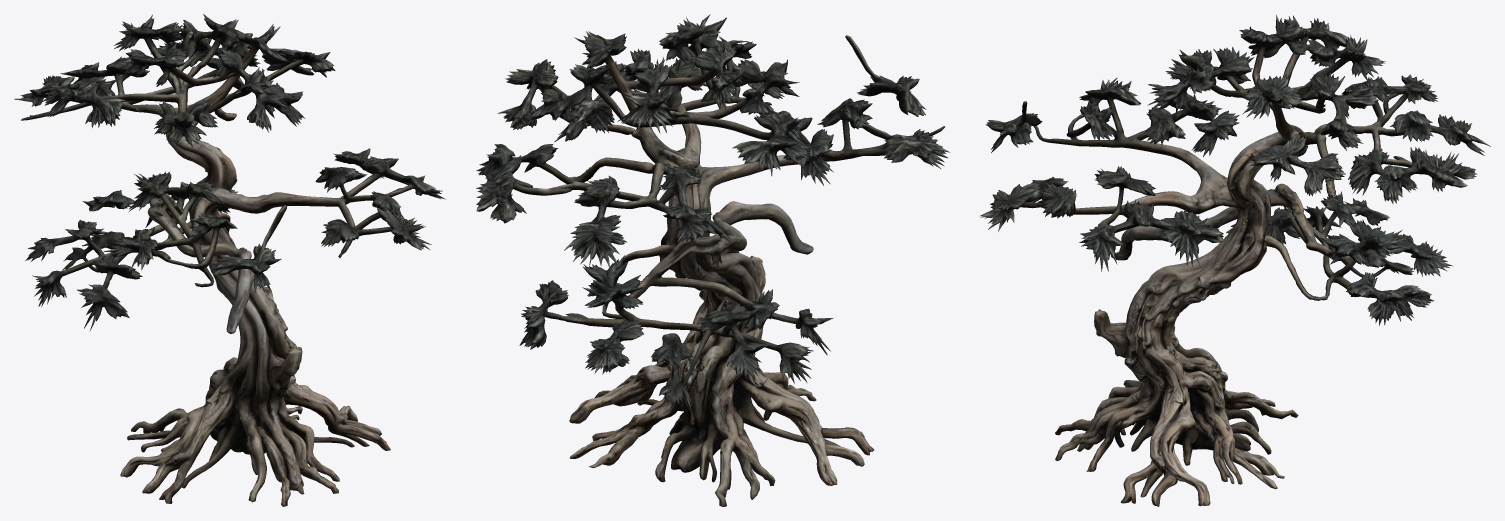
File: pine.glb
The picture shows the model from 3 angles, left to right: view 1: azimuth 30°, elevation 25°; view 2: azimuth 150°, elevation 25°; view 3: azimuth 270°, elevation 25°; orthographic projection. The views are drawn at different scales.
Visible parts, largest first — view 1: tripo_node_cab95052-05f5-4784-bfee-8827ec7f78c8; view 2: tripo_node_cab95052-05f5-4784-bfee-8827ec7f78c8; view 3: tripo_node_cab95052-05f5-4784-bfee-8827ec7f78c8.
Boxes of the visible parts, box(x1,y1,x2,y2) form: tripo_node_cab95052-05f5-4784-bfee-8827ec7f78c8: box(14, 14, 445, 506); tripo_node_cab95052-05f5-4784-bfee-8827ec7f78c8: box(476, 14, 950, 506); tripo_node_cab95052-05f5-4784-bfee-8827ec7f78c8: box(980, 15, 1490, 506).
Size of the model in its own units: 0.7357 by 0.8374 by 0.9556.
Materials: 1 (1 with a texture image).
